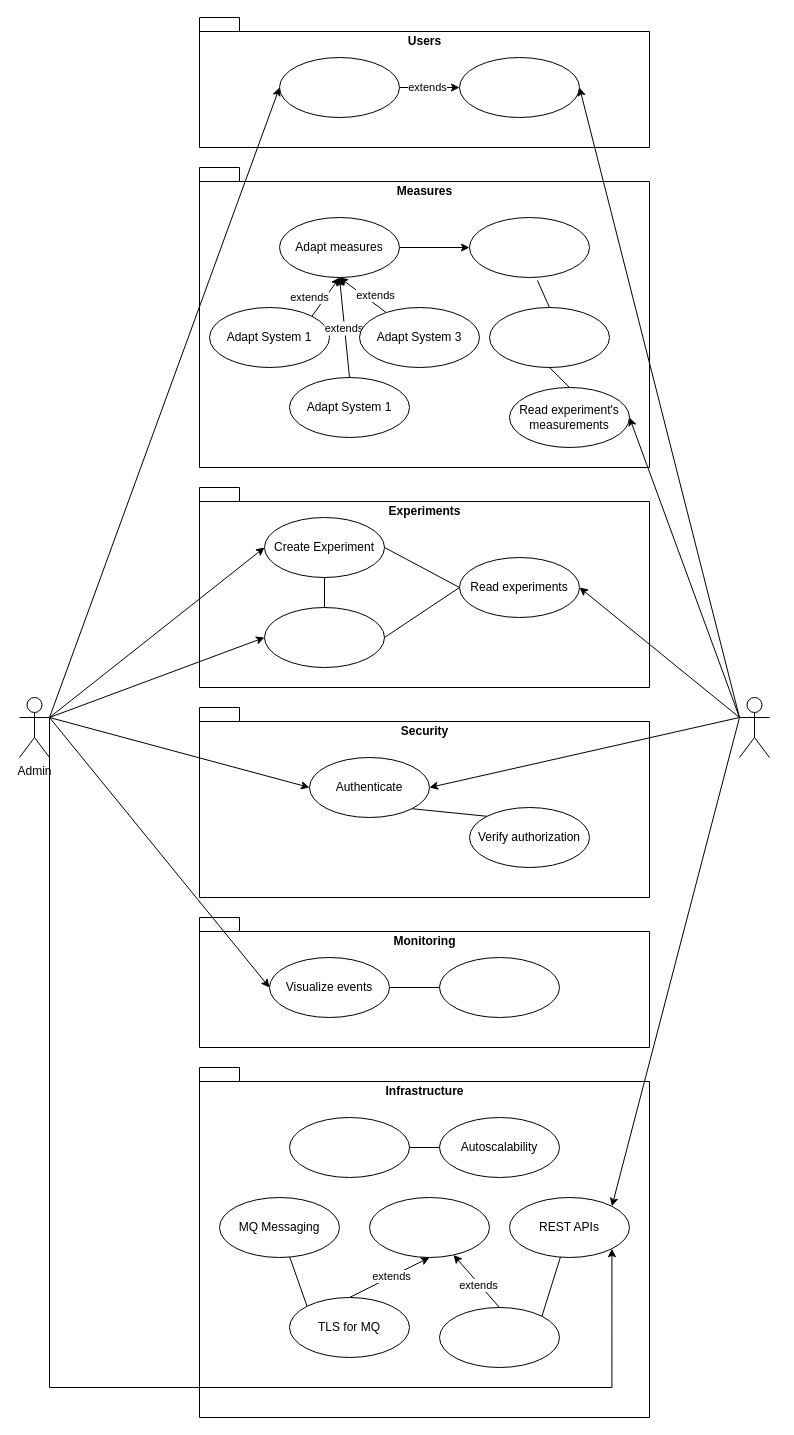
Image size: 794x1435. Some labels were removed from this diagram. Here are the shapes that lost their labels. From the top down, the centre of each, then its label:
At (x=339, y=87): "Manage users".
At (x=519, y=87): "Manage own user document".
At (x=529, y=247): "Receive measures".
At (x=549, y=337): "Store measures".
At (x=324, y=637): "Associate experiment / scientists".
At (x=754, y=727): "Scientist".
At (x=499, y=987): "Log event".
At (x=349, y=1147): "Containerazation".
At (x=429, y=1227): "Encryption".
At (x=499, y=1337): "HTTPS".
